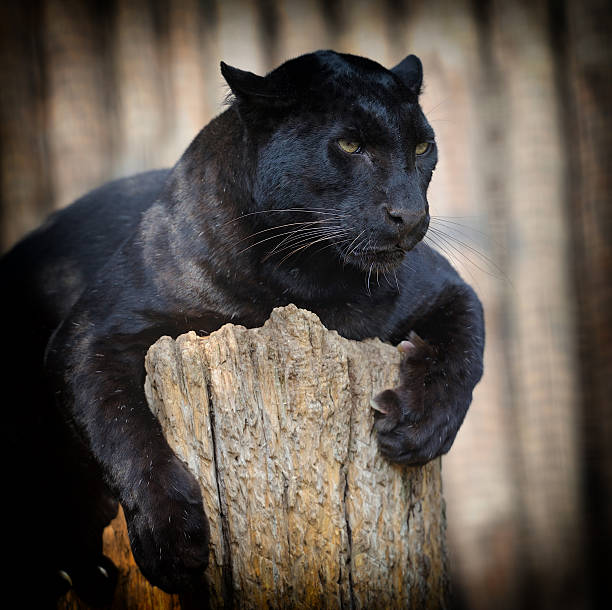panther: (163, 26, 494, 346)
